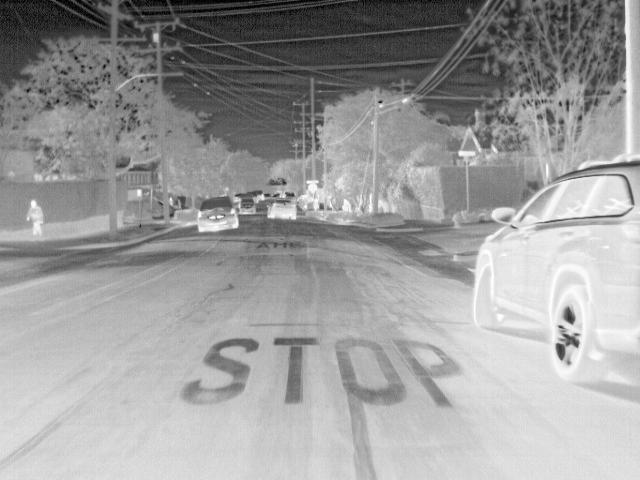car: (471, 160, 637, 384), (195, 195, 239, 233), (267, 199, 296, 219), (240, 197, 255, 212), (253, 188, 265, 200), (234, 192, 245, 204), (245, 189, 255, 200)
person: (24, 198, 45, 236)
